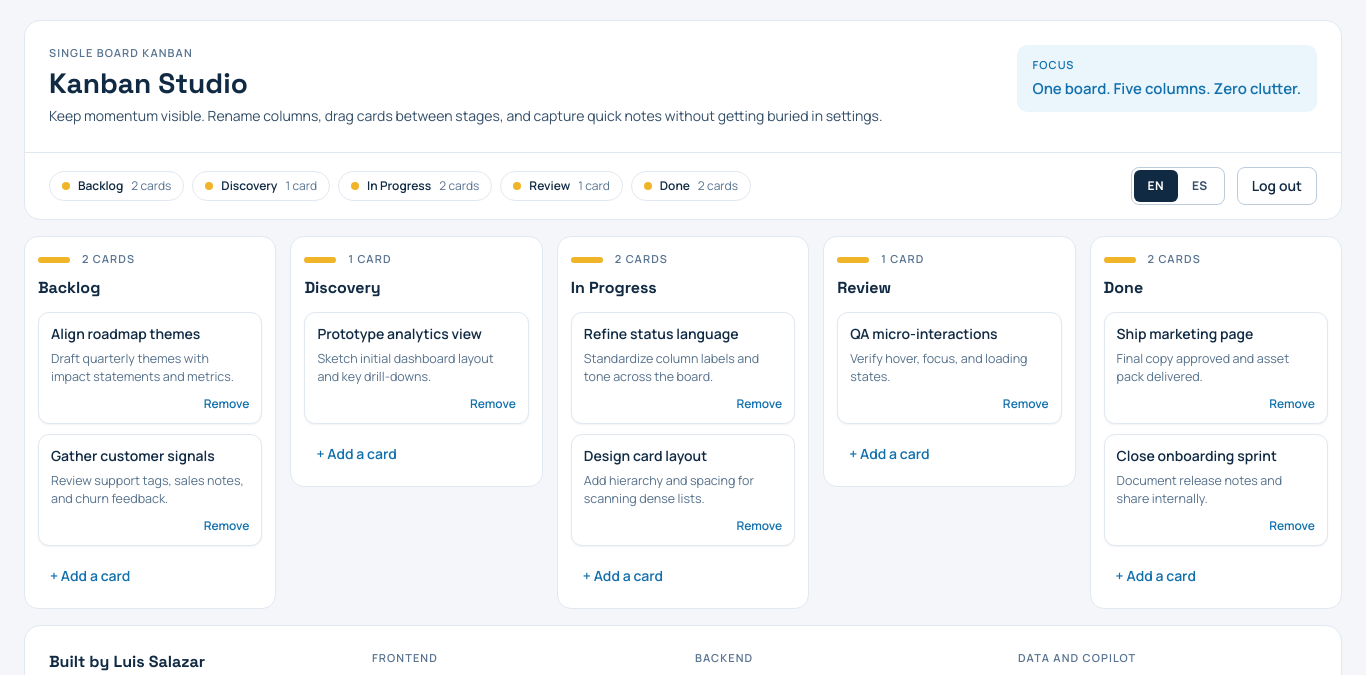
Scenario: KanbanBoard cards without notes › offers an editable placeholder when a card has no details
# Empty the details first, as a copilot-created card would arrive.
Double-click the text "Draft quarterly themes with impact statements and metrics." at (150, 368), box [51, 350, 249, 386]
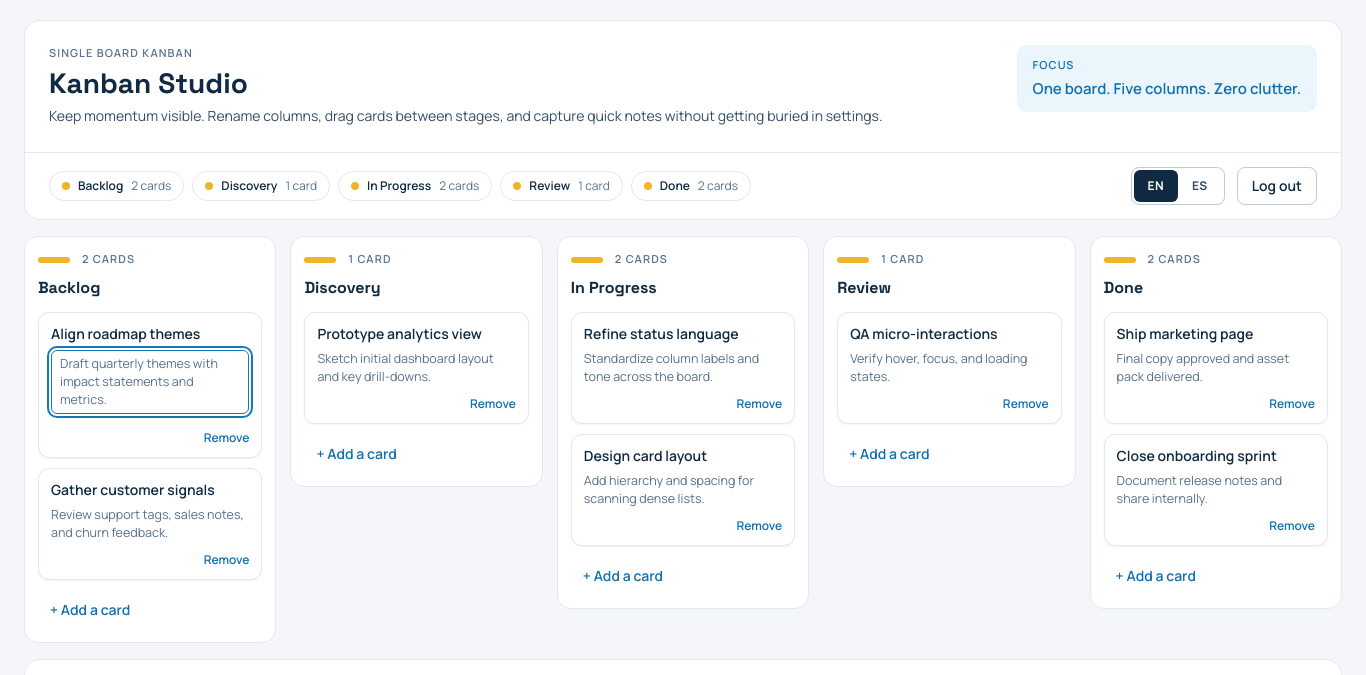
Clear the text box named "Edit card details". click: (150, 382)
box: [51, 350, 249, 414]
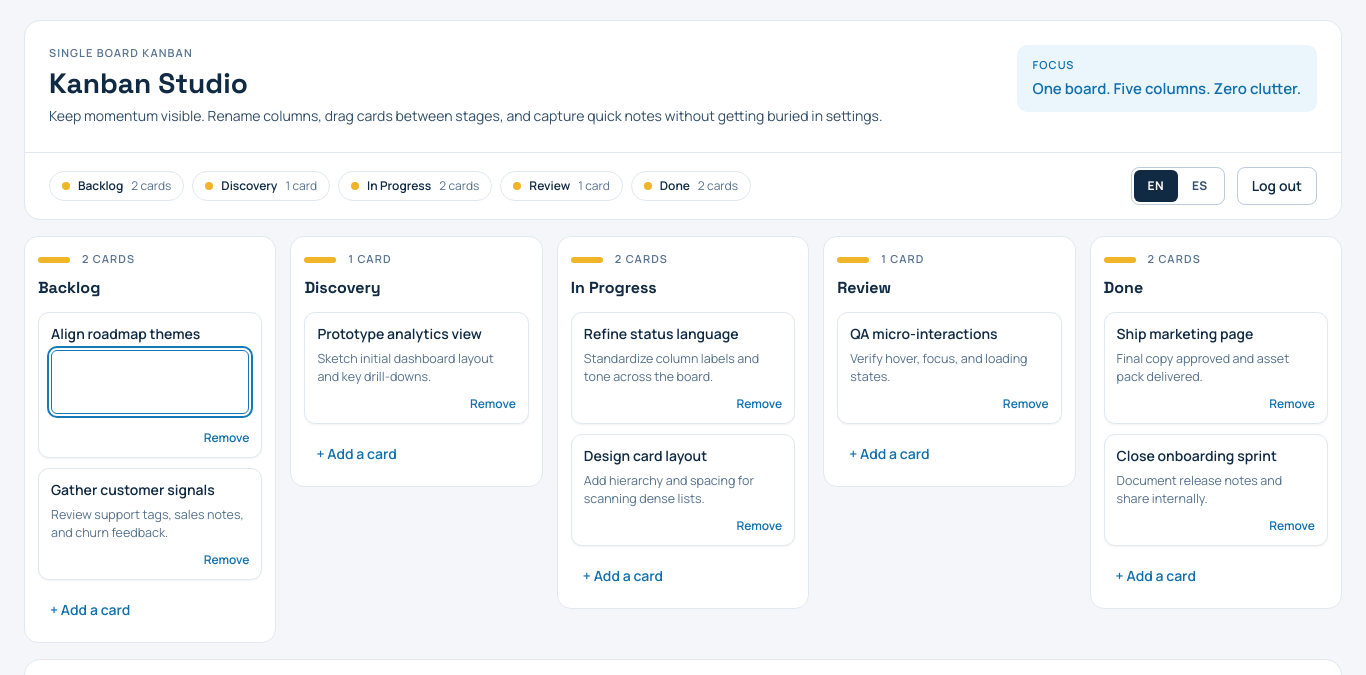
Press Tab
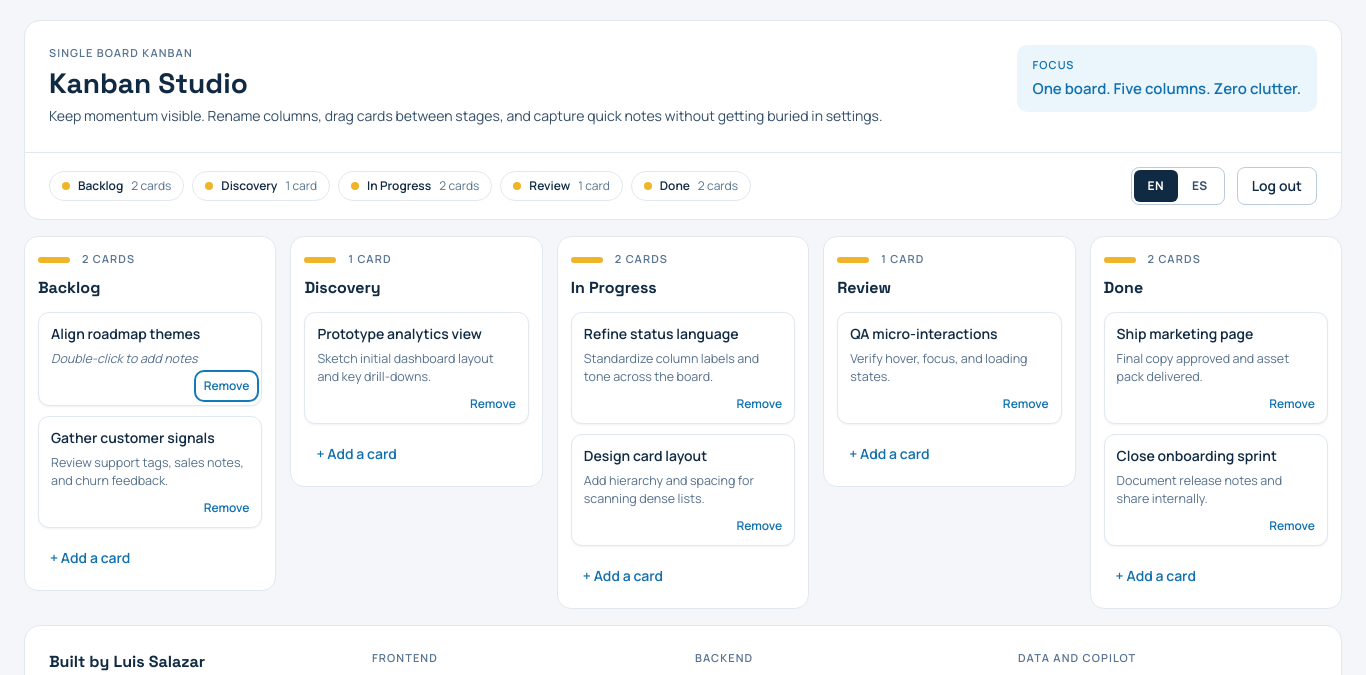
Double-click the text "Double-click to add notes" at (124, 358), box [51, 350, 198, 367]
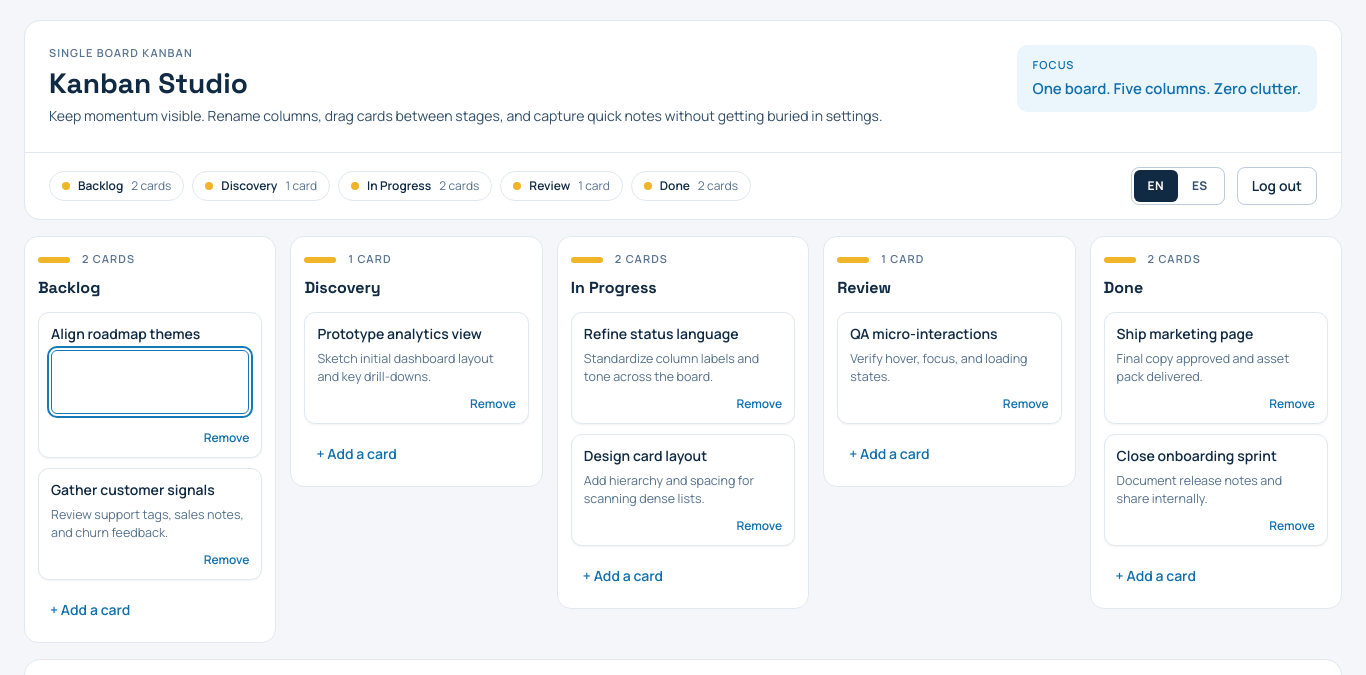
Type "Notes added later." into the text box named "Edit card details". click: (150, 382)
box: [51, 350, 249, 414]
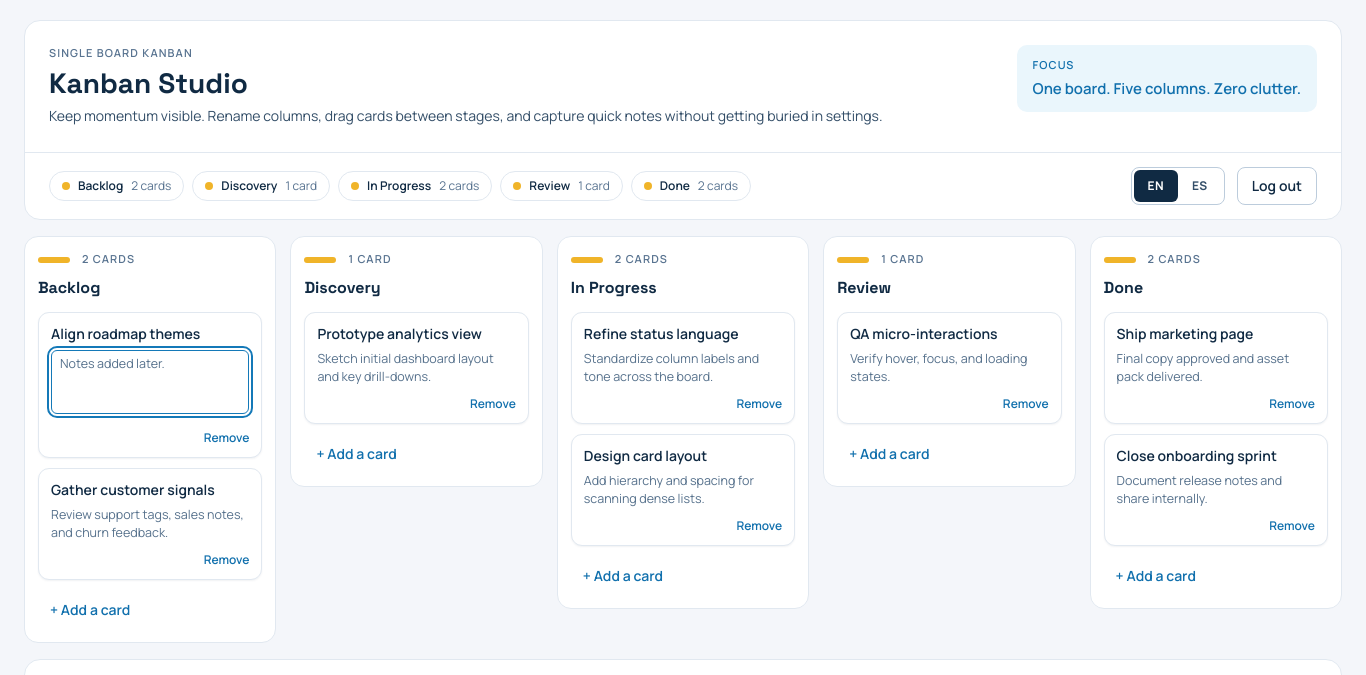
Press Tab
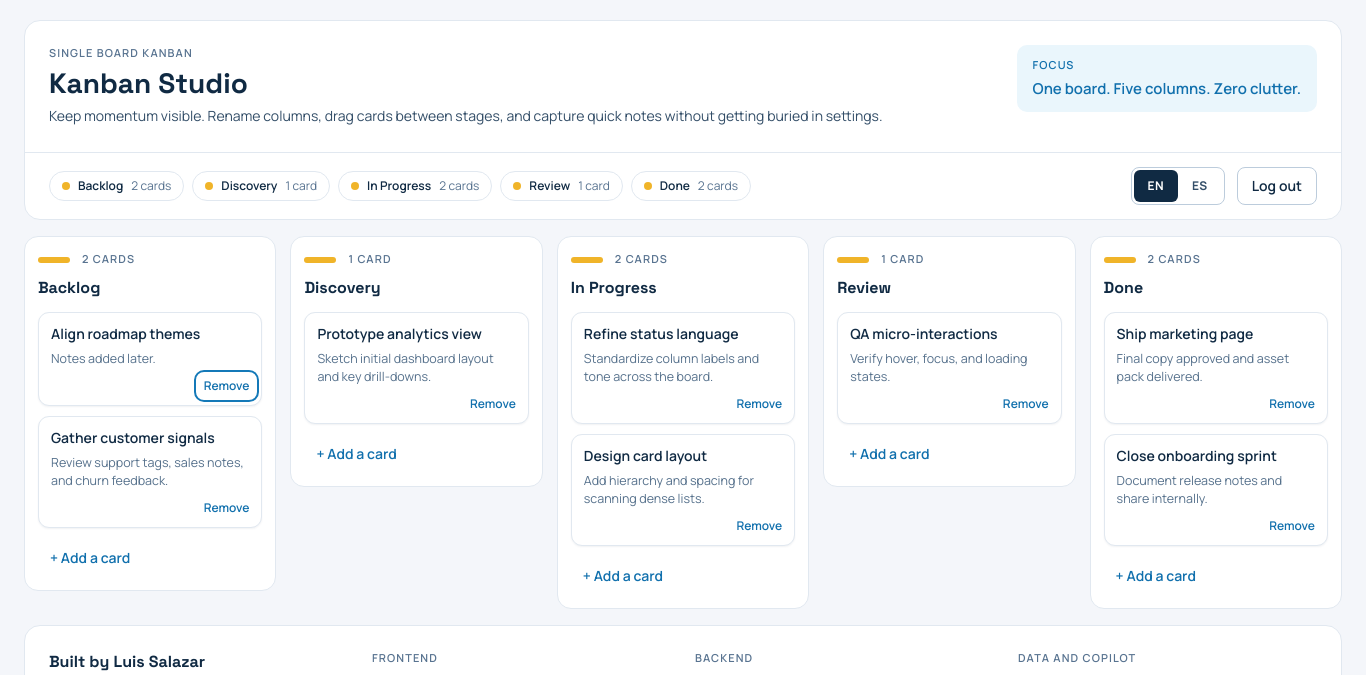
Check: the text "Double-click to add notes" is not shown
Check: the text "Notes added later." is shown, box [51, 350, 156, 367]
